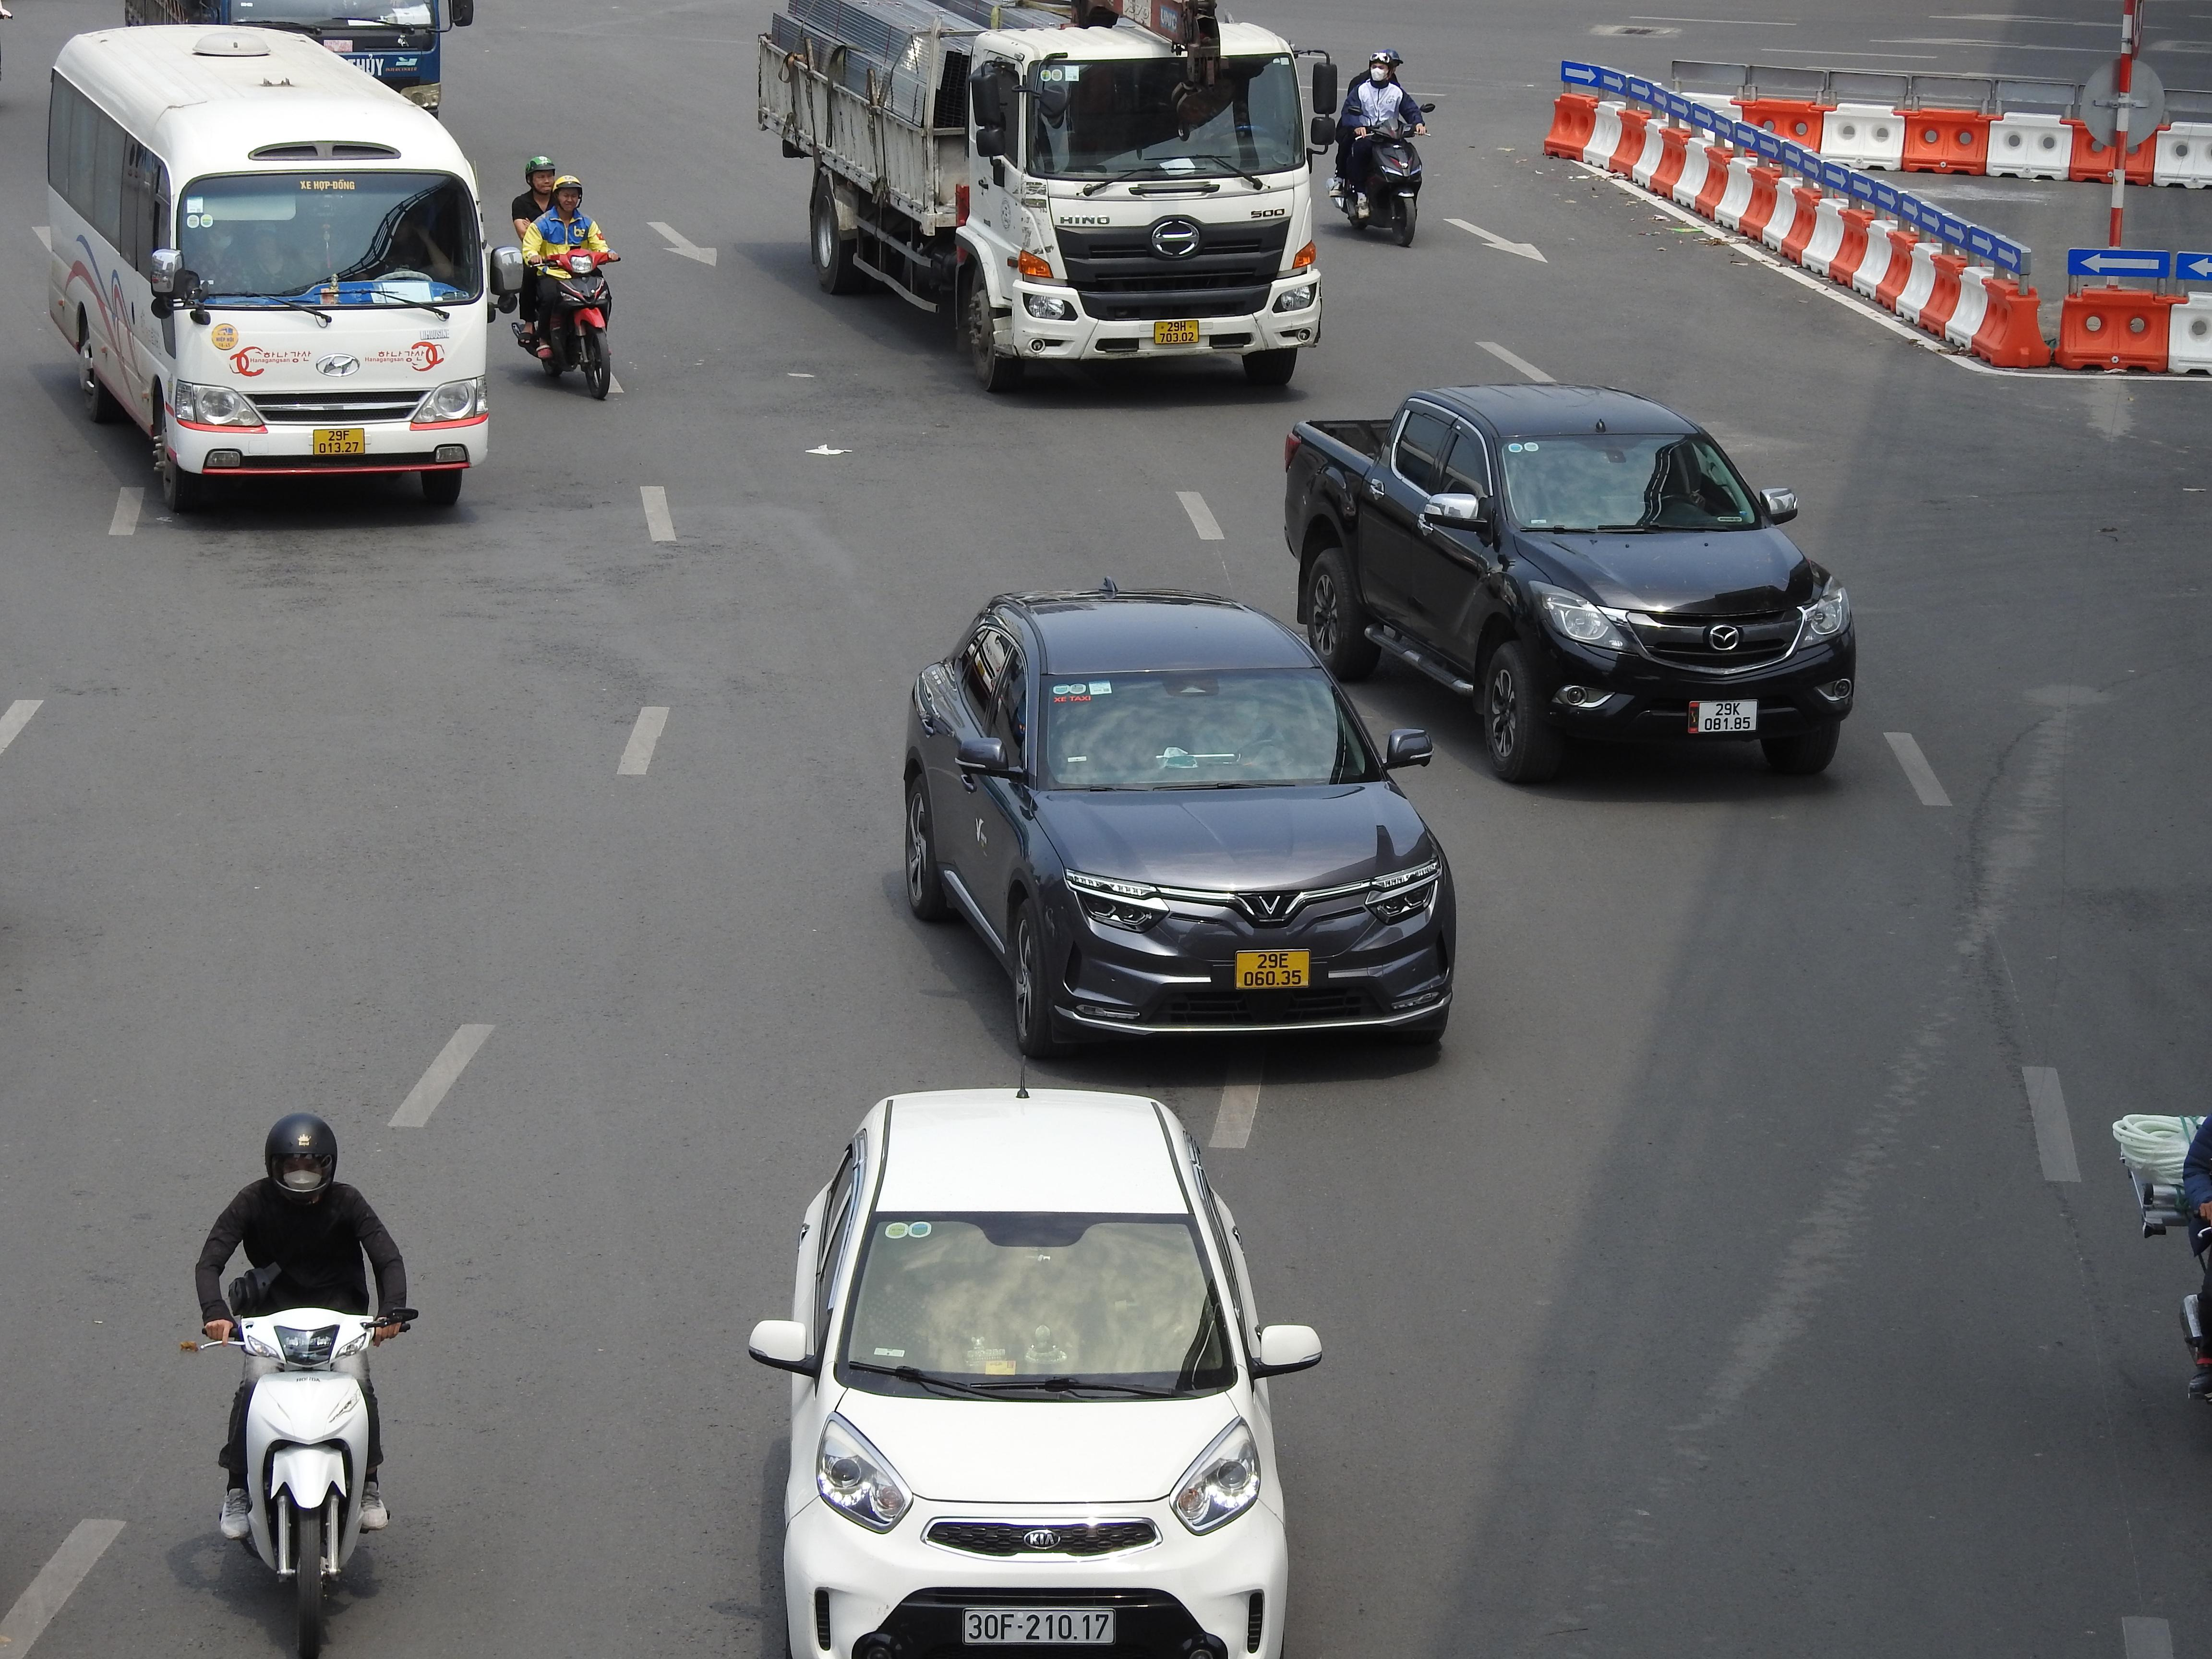BSD: (961, 1605, 1115, 1647)
BSV: (1235, 950, 1310, 990), (1698, 699, 1757, 732), (314, 427, 366, 455), (1155, 319, 1200, 343)
bus: (42, 21, 496, 512)
car: (745, 1084, 1324, 1659), (897, 582, 1458, 1061), (1280, 382, 1858, 786)
motorbike: (192, 1108, 416, 1657), (510, 153, 622, 401), (1331, 47, 1430, 249)
truck: (754, 0, 1332, 396)
